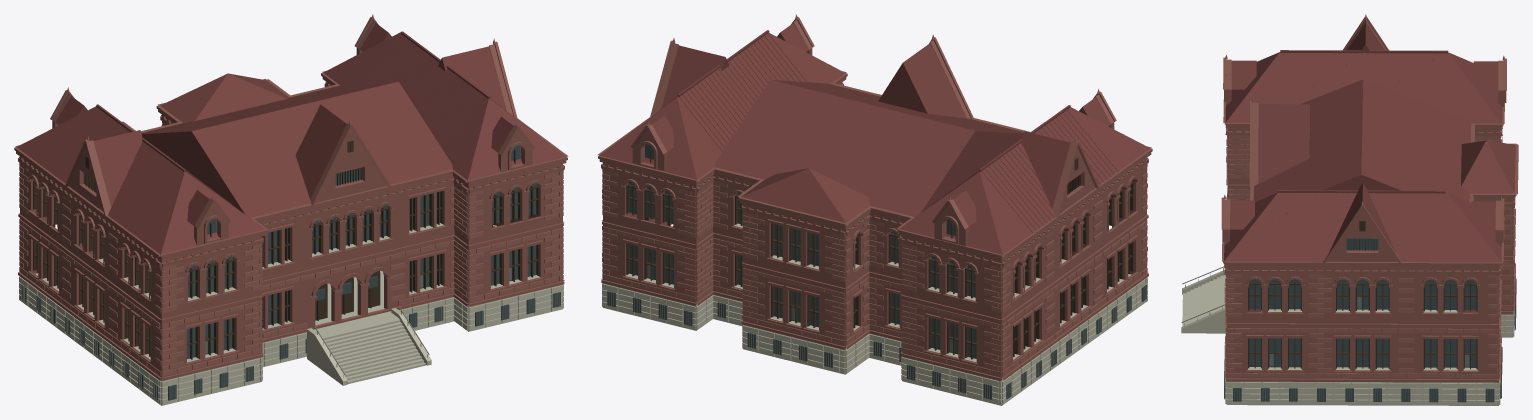
File: old-orange-county-courthouse-near.glb
3 renders of one model, left to right at view 1: azimuth 30°, elevation 25°; view 2: azimuth 150°, elevation 25°; view 3: azimuth 270°, elevation 25°, orthographic. The views are drawn at different scales.
Parts seen in each view (by area): view 1: old-orange-county-courthouse-0-sandstone, old-orange-county-courthouse-0-roof, old-orange-county-courthouse-0-granite, old-orange-county-courthouse-0-ashlar, old-orange-county-courthouse-0-wood, old-orange-county-courthouse-0-glass, old-orange-county-courthouse-0-iron; view 2: old-orange-county-courthouse-0-roof, old-orange-county-courthouse-0-sandstone, old-orange-county-courthouse-0-ashlar, old-orange-county-courthouse-0-granite, old-orange-county-courthouse-0-wood, old-orange-county-courthouse-0-glass, old-orange-county-courthouse-0-iron; view 3: old-orange-county-courthouse-0-roof, old-orange-county-courthouse-0-sandstone, old-orange-county-courthouse-0-granite, old-orange-county-courthouse-0-ashlar, old-orange-county-courthouse-0-glass, old-orange-county-courthouse-0-wood, old-orange-county-courthouse-0-iron.
Boxes of the visible parts, left/top/right/bottom form: old-orange-county-courthouse-0-sandstone: left=14, top=14, right=568, bottom=380; old-orange-county-courthouse-0-roof: left=16, top=23, right=566, bottom=255; old-orange-county-courthouse-0-granite: left=19, top=209, right=563, bottom=405; old-orange-county-courthouse-0-ashlar: left=19, top=121, right=563, bottom=376; old-orange-county-courthouse-0-wood: left=33, top=140, right=539, bottom=359; old-orange-county-courthouse-0-glass: left=21, top=145, right=560, bottom=400; old-orange-county-courthouse-0-iron: left=21, top=285, right=559, bottom=400; old-orange-county-courthouse-0-roof: left=599, top=23, right=1150, bottom=255; old-orange-county-courthouse-0-sandstone: left=598, top=14, right=1152, bottom=380; old-orange-county-courthouse-0-ashlar: left=602, top=164, right=1147, bottom=376; old-orange-county-courthouse-0-granite: left=602, top=223, right=1147, bottom=405; old-orange-county-courthouse-0-wood: left=626, top=148, right=1133, bottom=359; old-orange-county-courthouse-0-glass: left=607, top=144, right=1146, bottom=399; old-orange-county-courthouse-0-iron: left=608, top=285, right=1146, bottom=399; old-orange-county-courthouse-0-roof: left=1223, top=23, right=1515, bottom=262; old-orange-county-courthouse-0-sandstone: left=1221, top=14, right=1518, bottom=382; old-orange-county-courthouse-0-granite: left=1181, top=270, right=1514, bottom=405; old-orange-county-courthouse-0-ashlar: left=1225, top=134, right=1514, bottom=378; old-orange-county-courthouse-0-glass: left=1224, top=238, right=1515, bottom=402; old-orange-county-courthouse-0-wood: left=1248, top=221, right=1477, bottom=369; old-orange-county-courthouse-0-iron: left=1181, top=266, right=1516, bottom=402.
Bounding box in the file's own units: 43.94 × 23.29 × 33.05.
